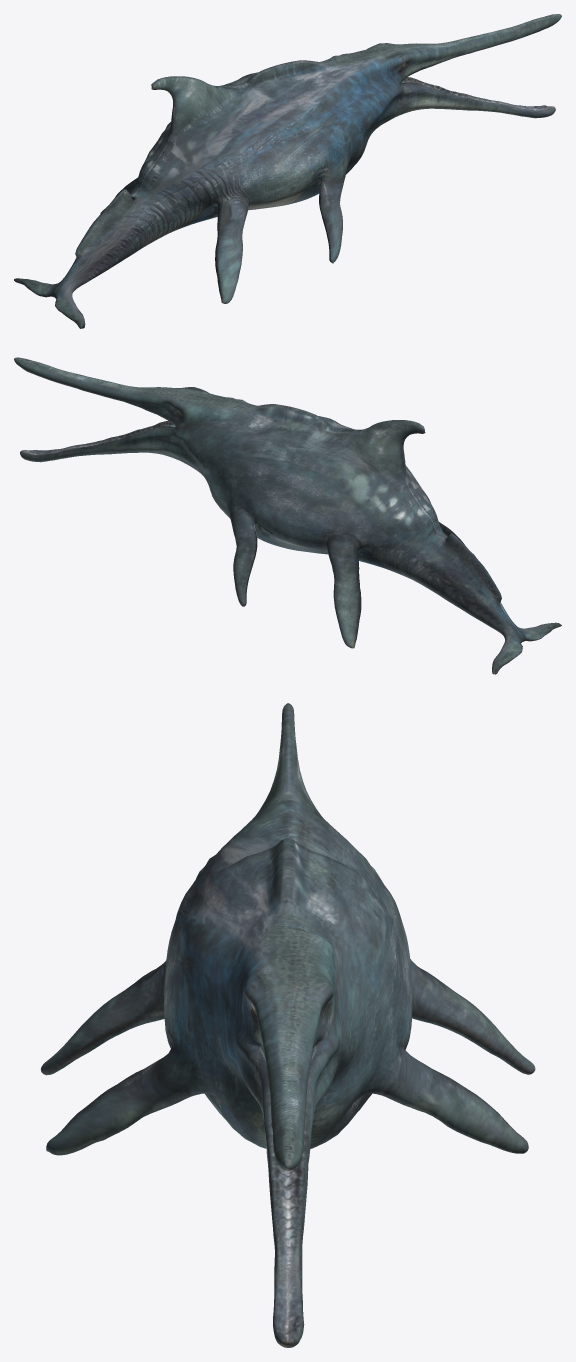
File: 13 Ictiosaurio 3D.glb
The picture shows the model from 3 angles, top to bottom: view 1: azimuth 30°, elevation 25°; view 2: azimuth 150°, elevation 25°; view 3: azimuth 270°, elevation 25°; orthographic projection. The views are drawn at different scales.
Parts seen in each view (by area): view 1: Mesh0; view 2: Mesh0; view 3: Mesh0.
Boxes of the visible parts, <box> form: Mesh0: <box>14,14,561,328</box>; Mesh0: <box>14,357,561,674</box>; Mesh0: <box>40,703,535,1347</box>.
Bounding box in the file's own units: 16.35 × 6.07 × 6.8.
Materials: 1 (1 with a texture image).
